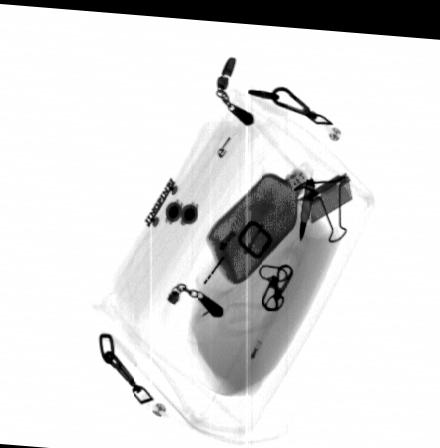Bullet: (298, 172, 314, 239)
